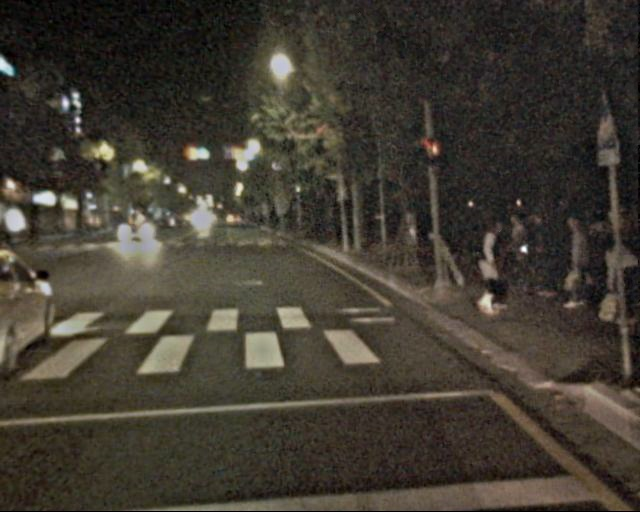person: (506, 209, 561, 295), (600, 225, 640, 331), (473, 220, 514, 319), (553, 215, 592, 311)
